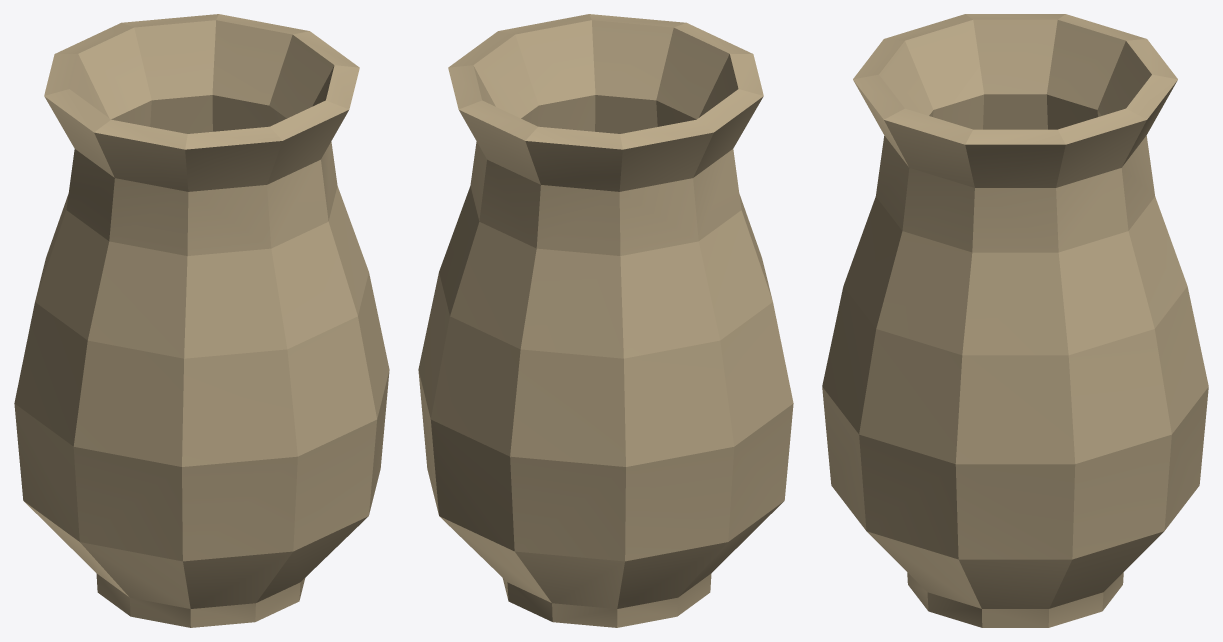
File: Vase_1 Asia.fbx
3 renders of one model, left to right at view 1: azimuth 30°, elevation 25°; view 2: azimuth 150°, elevation 25°; view 3: azimuth 270°, elevation 25°, orthographic.
Parts seen in each view (by area): view 1: Vase_1; view 2: Vase_1; view 3: Vase_1.
Boxes of the visible parts, x1=… form: Vase_1: x1=14, y1=14, x2=389, y2=627; Vase_1: x1=418, y1=14, x2=793, y2=627; Vase_1: x1=822, y1=14, x2=1208, y2=627.
Size of the model in its own units: 0.2626 by 0.4025 by 0.2761.
